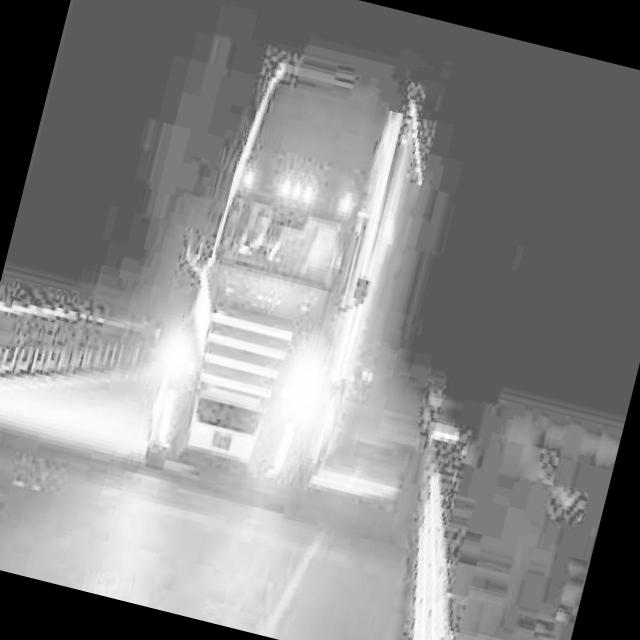Truck: (132, 39, 448, 516)
